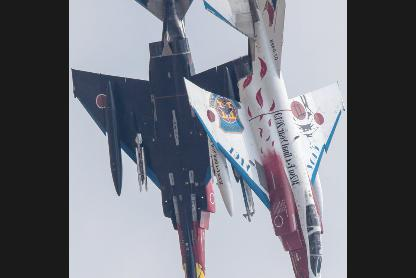F35: (71, 0, 249, 277), (184, 0, 347, 277)
